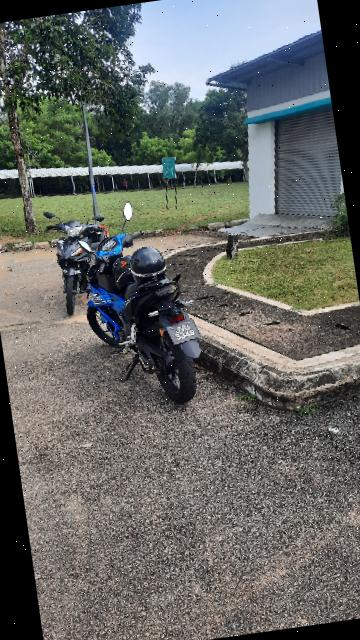License_Plate: (164, 319, 205, 346)
motorcycle: (69, 192, 218, 419)
